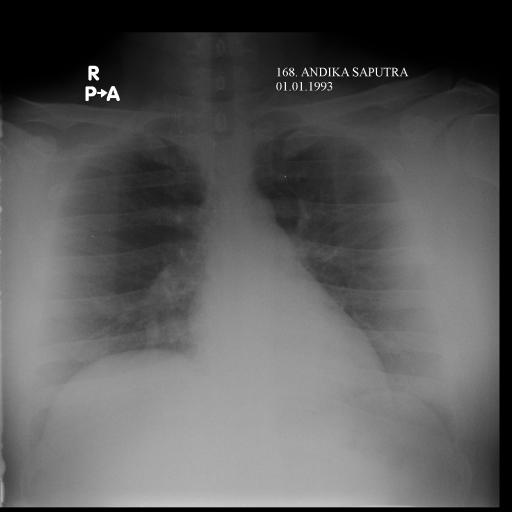normal: (18, 100, 470, 462)
